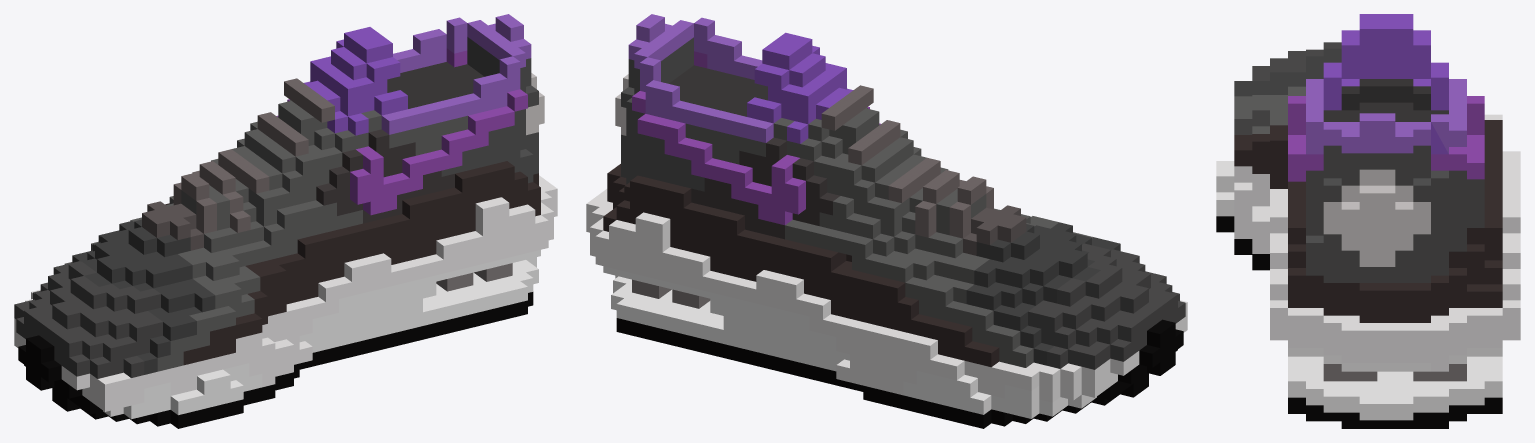
The model's file is Bitter Grape.fbx.
3 renders of one model, left to right at view 1: azimuth 30°, elevation 25°; view 2: azimuth 150°, elevation 25°; view 3: azimuth 270°, elevation 25°, orthographic. The views are drawn at different scales.
Visible parts, largest first — view 1: Untitled; view 2: Untitled; view 3: Untitled.
Boxes of the visible parts, x1,y1,x2,y2 form: Untitled: (14,14,557,428); Untitled: (586,14,1187,428); Untitled: (1216,14,1520,428).
Bounding box in the file's own units: 400 × 200 × 170.
